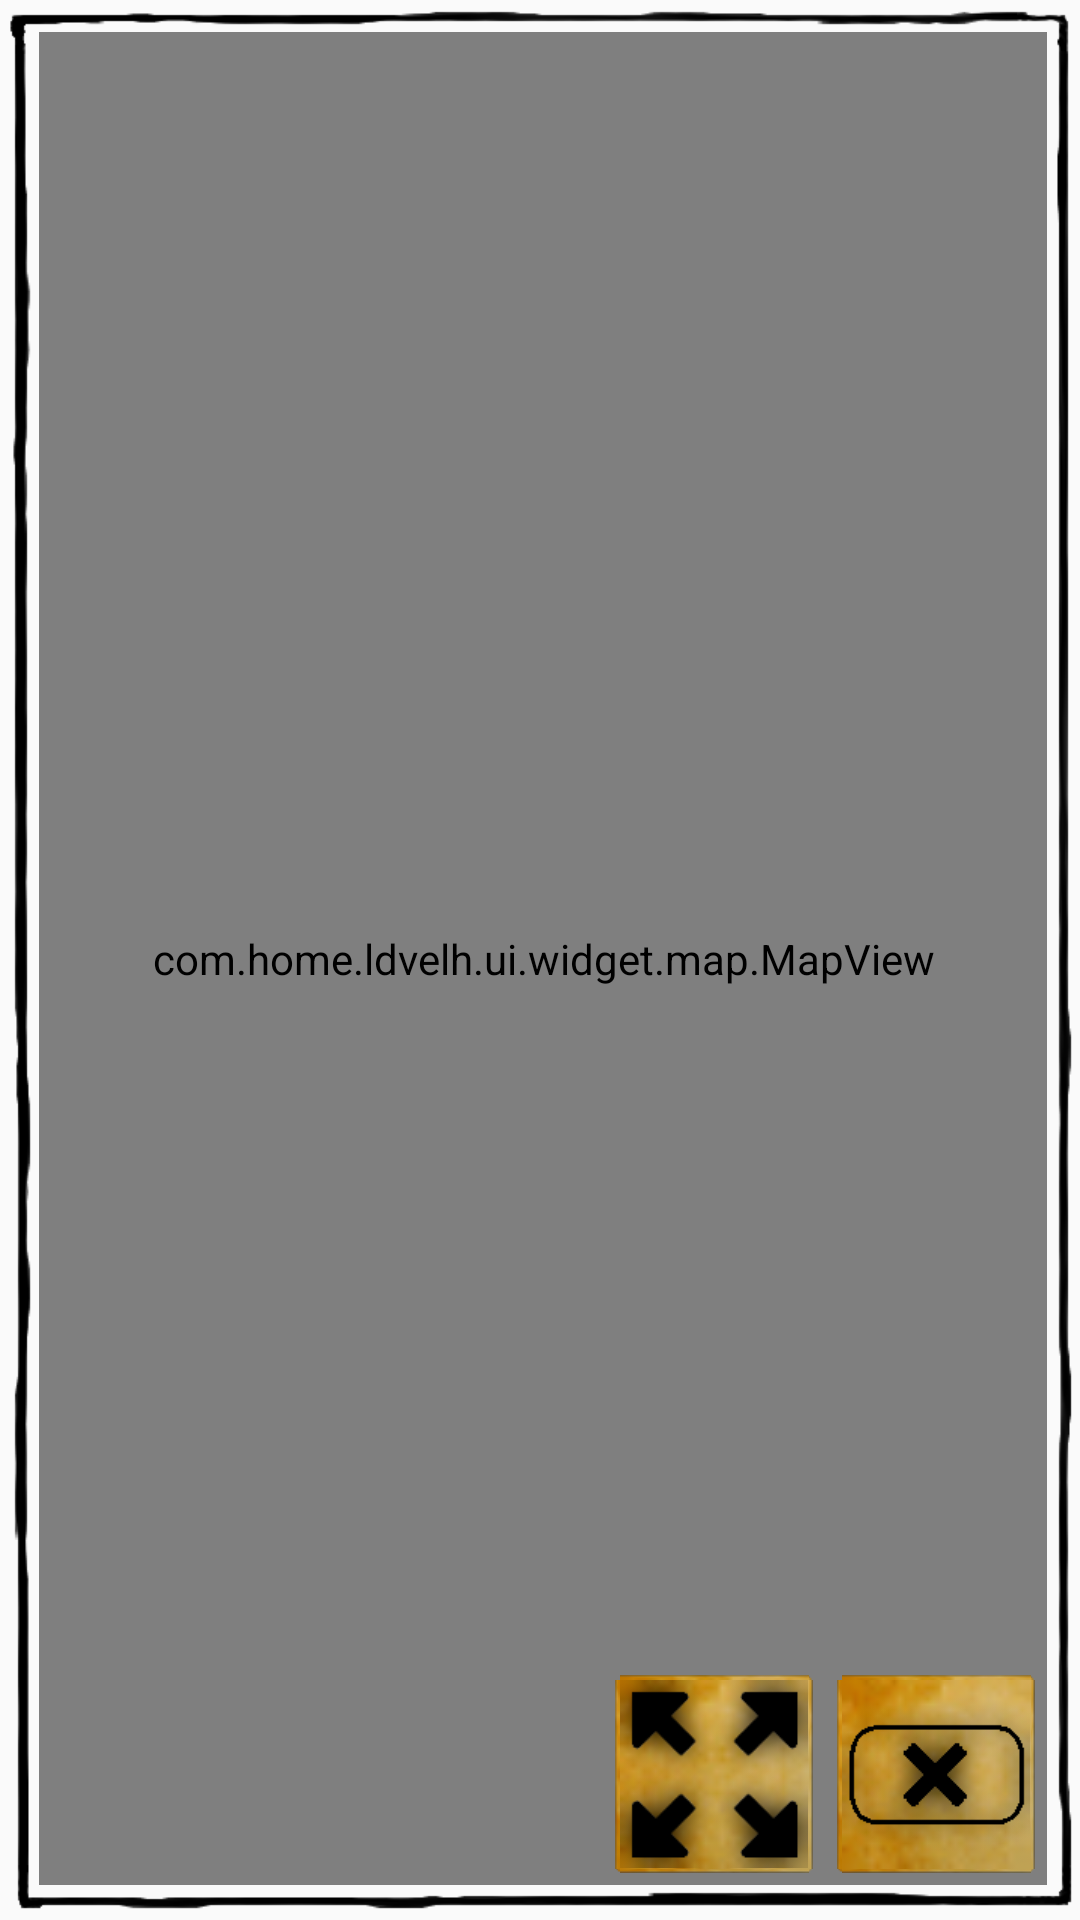

Icons on this 1080x1920 Android screen, each with the point to tap as (x=x, y=y):
delete node: (x=936, y=1774)
fit to view: (x=714, y=1774)
